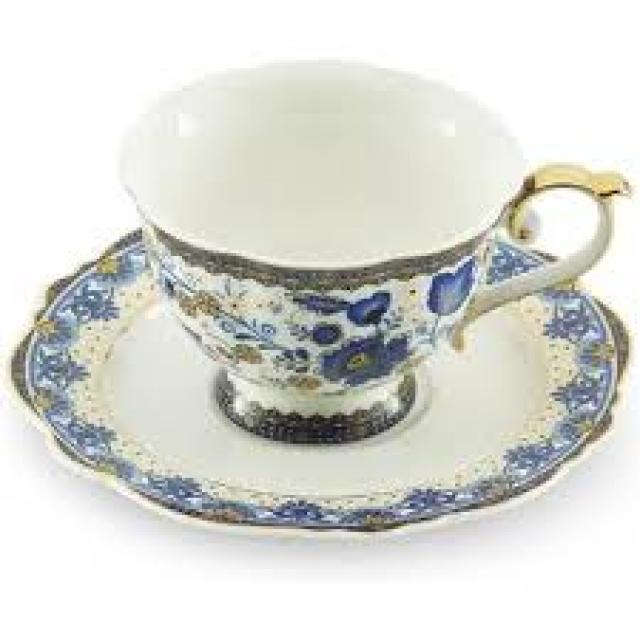taza: (83, 59, 630, 434)
